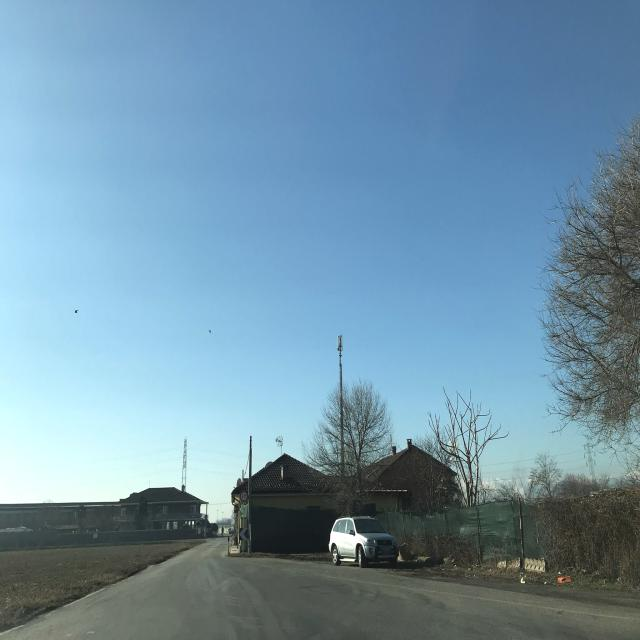car: (329, 514, 401, 568)
